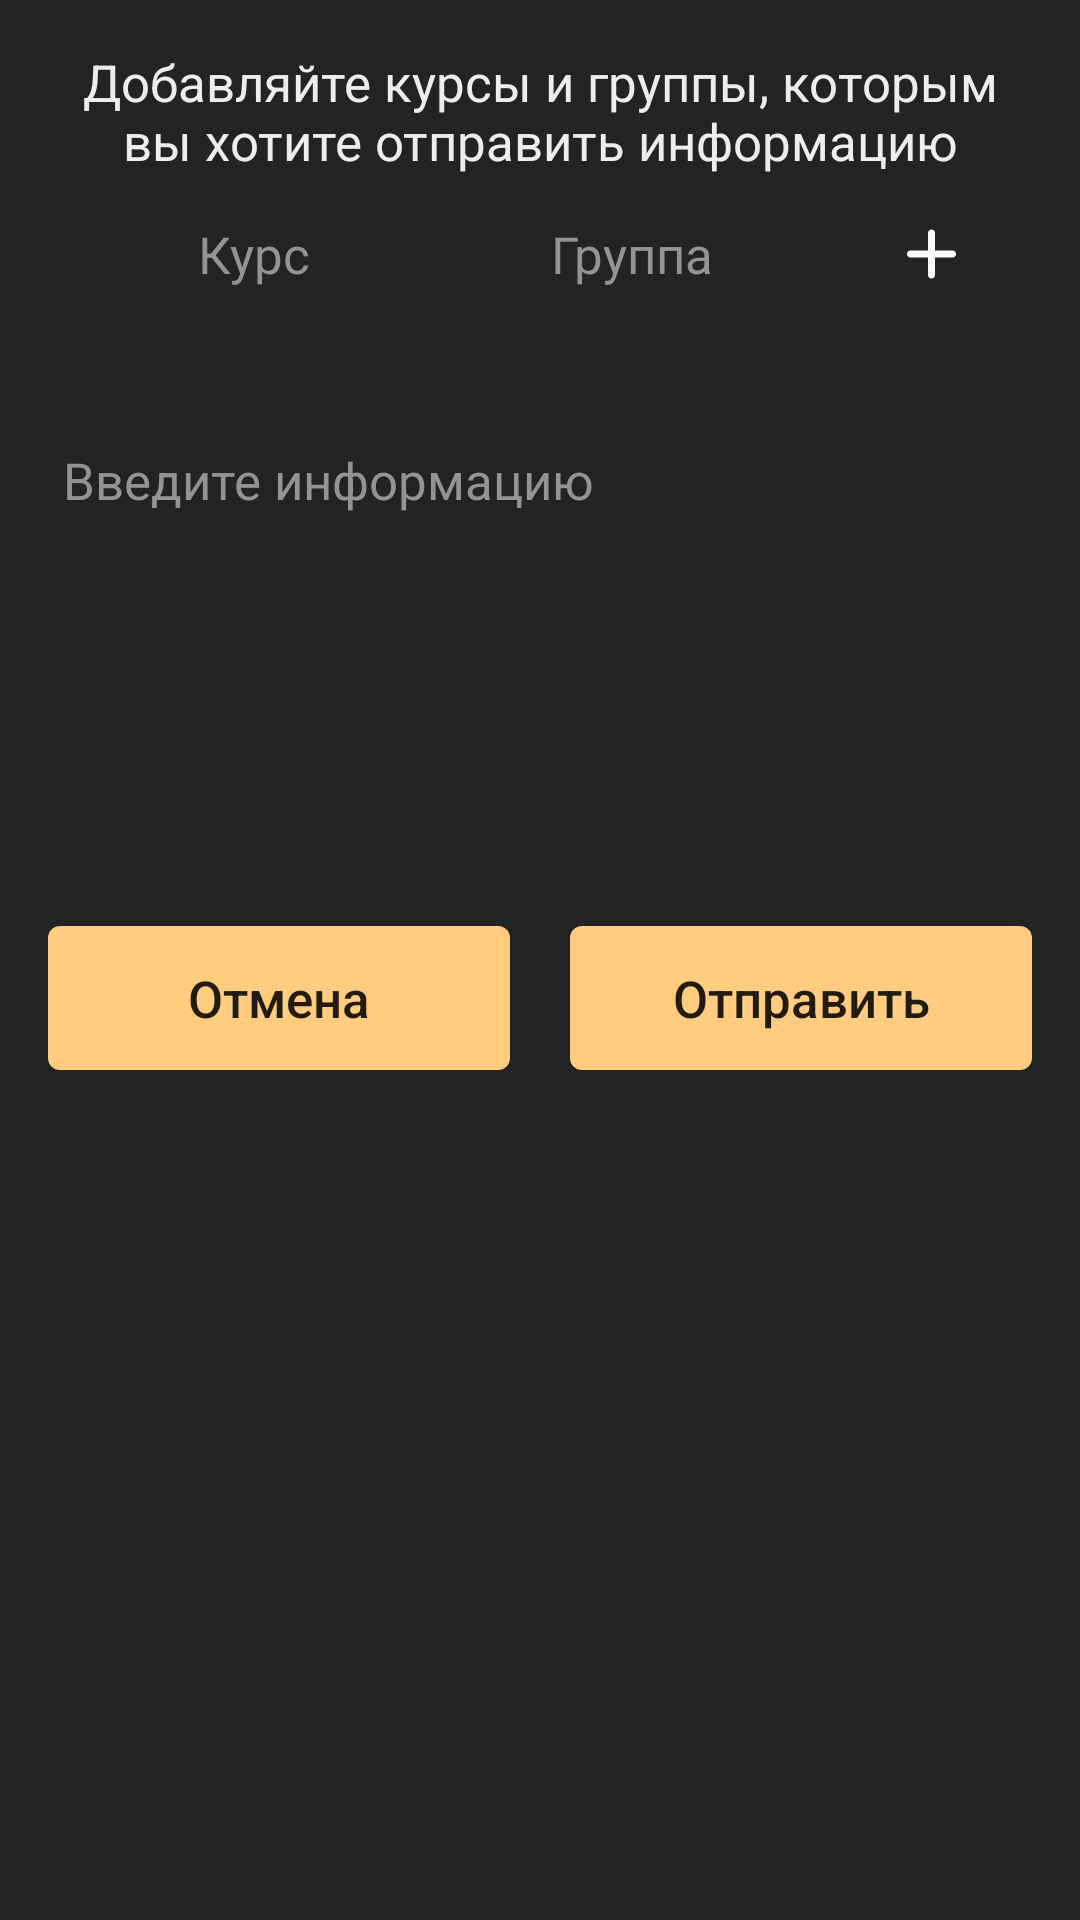

Named icons in this screenshot (1080 × 1920) and their bounding boxes, (x1,y1,x2,y2):
plus: (907,229,956,279)
